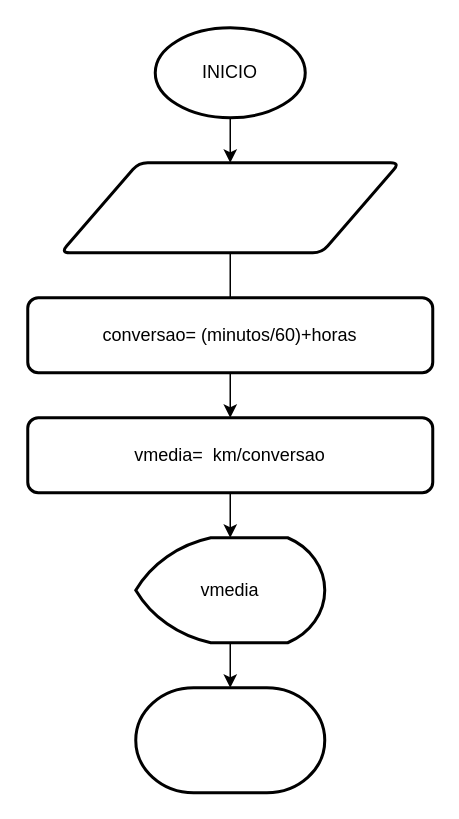
This 459x819 diagram has some shape labels left out. The centre of each missing label's shape, as x and y in pixels:
"FIM" belongs at pixel 230 740.
"quilometros, horas, minutos" belongs at pixel 229 207.
